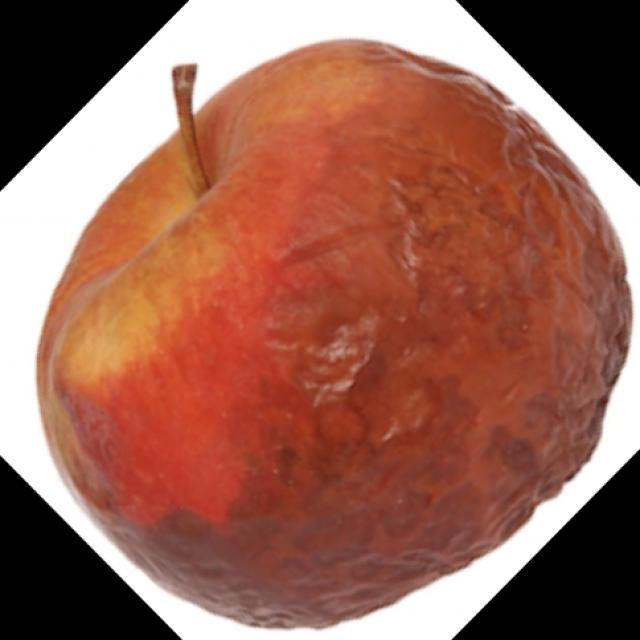Rotten: (47, 48, 638, 615)
